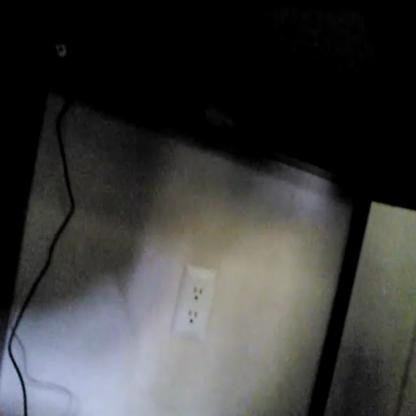OUTLET: (180, 272, 211, 338)
